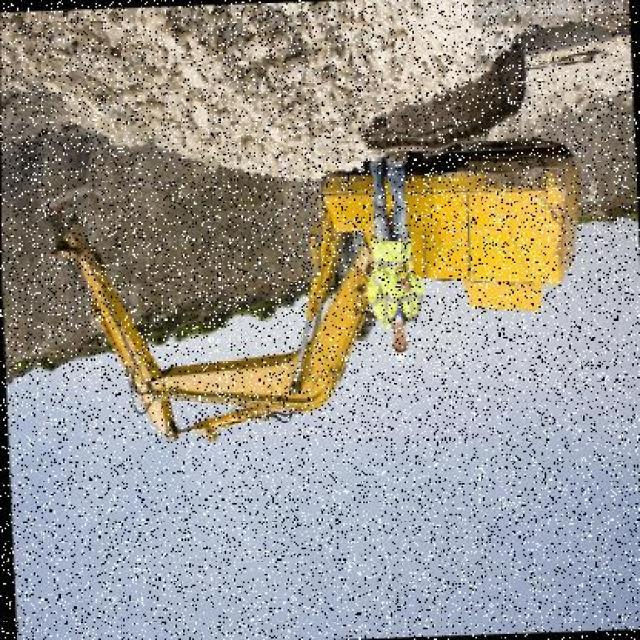helmet: (390, 333, 413, 362)
vest: (359, 228, 424, 331)
